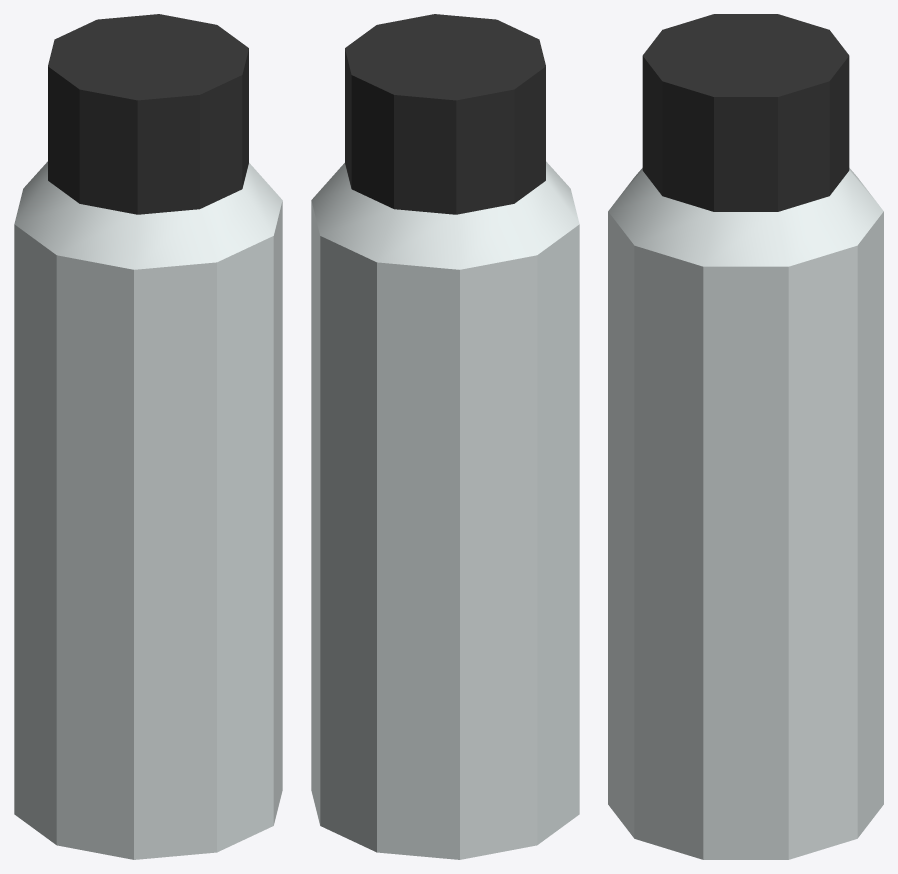
Rendered from Cocktail.fbx.
The picture shows the model from 3 angles, left to right: view 1: azimuth 30°, elevation 25°; view 2: azimuth 150°, elevation 25°; view 3: azimuth 270°, elevation 25°; orthographic projection.
Parts seen in each view (by area): view 1: cocktail.003; view 2: cocktail.003; view 3: cocktail.003.
Part boxes in pixels (bbox=[...]): cocktail.003: bbox=[14, 14, 282, 859]; cocktail.003: bbox=[311, 14, 579, 859]; cocktail.003: bbox=[608, 14, 883, 859].
Bounding box in the file's own units: 0.111 × 0.35 × 0.1168.
